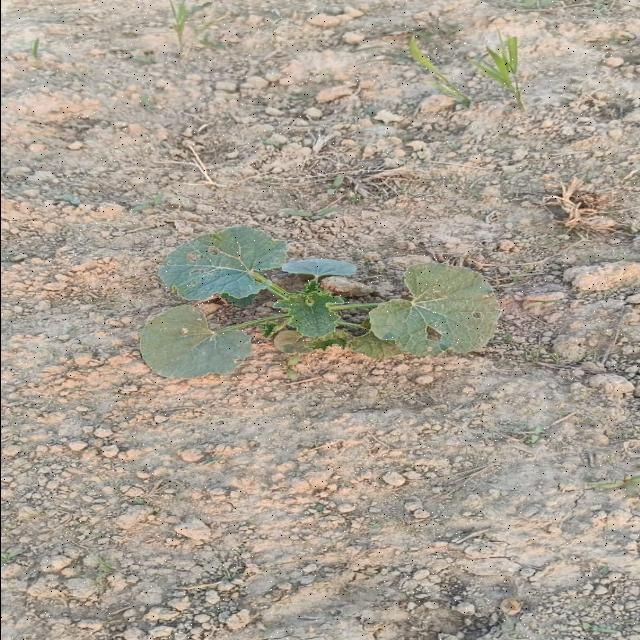plant: (140, 226, 499, 378)
